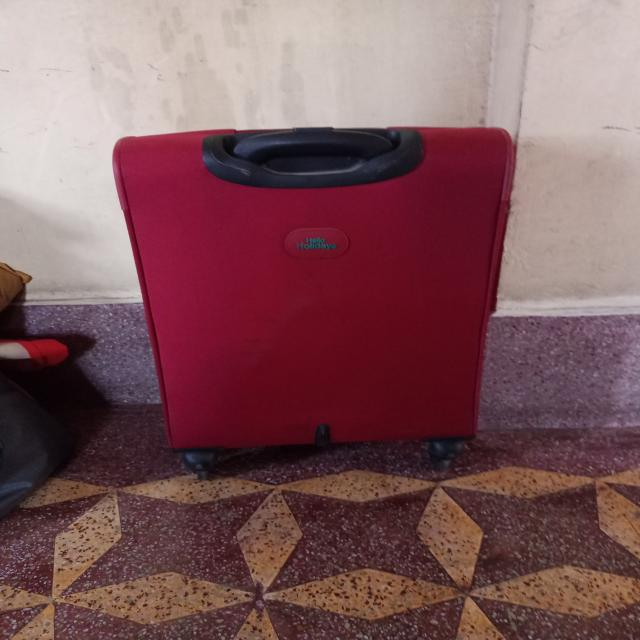suitcaserotation: (103, 123, 520, 477)
